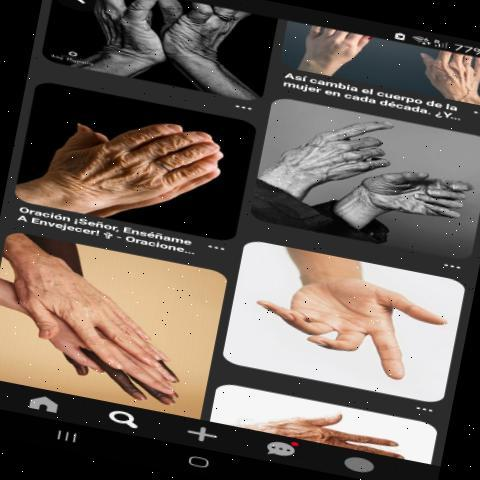Hands: (244, 239, 449, 388), (31, 105, 233, 217), (14, 254, 179, 372), (265, 102, 402, 183), (357, 166, 480, 227)
